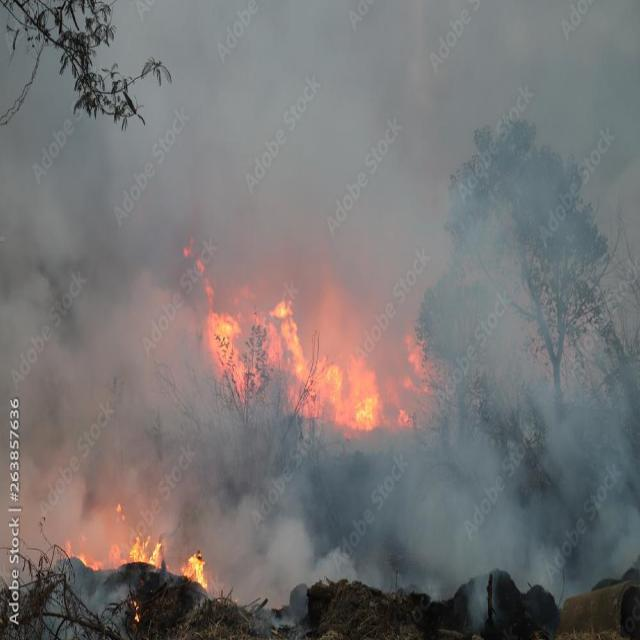Fire: (273, 282, 399, 436), (188, 246, 265, 395), (121, 512, 222, 605)
Smoke: (390, 72, 640, 630), (0, 19, 376, 258), (12, 257, 180, 492), (236, 437, 406, 607)
